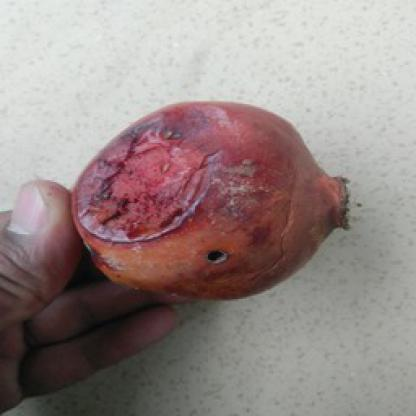pomegranate_rotten: (68, 98, 353, 302)
